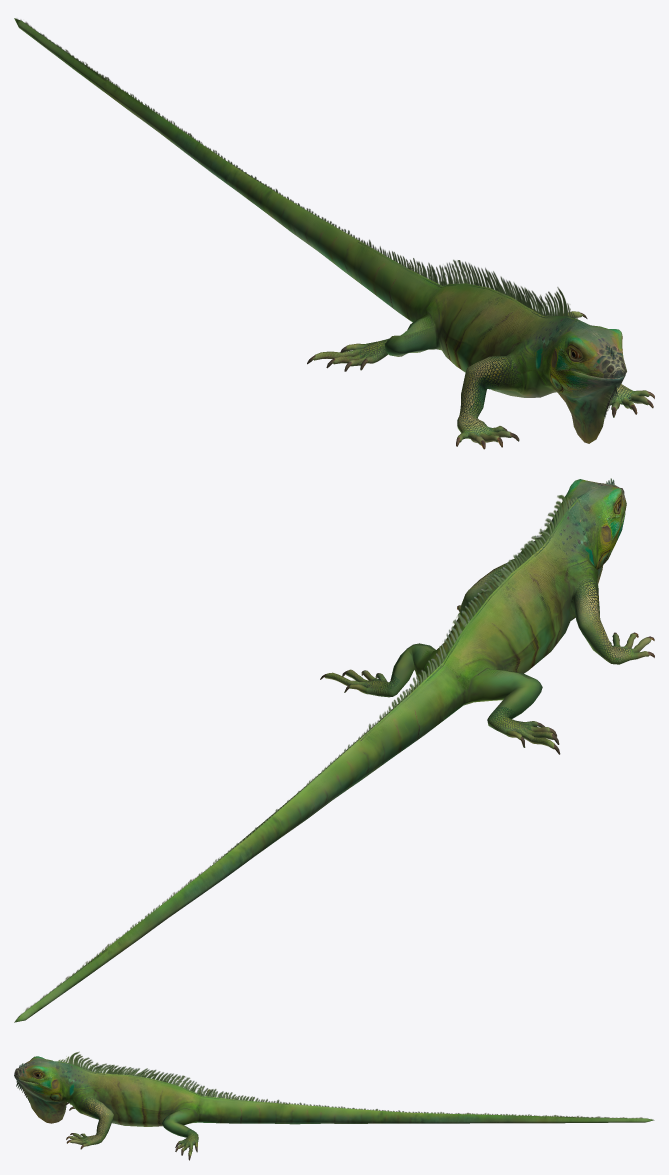
The model's file is iguane.gltf.
The picture shows the model from 3 angles, top to bottom: view 1: azimuth 30°, elevation 25°; view 2: azimuth 150°, elevation 25°; view 3: azimuth 270°, elevation 25°; orthographic projection. The views are drawn at different scales.
Visible parts, largest first — view 1: sm_1_0_0, sm_1_0_1; view 2: sm_1_0_0, sm_1_0_1; view 3: sm_1_0_0, sm_1_0_1.
Part boxes in pixels (x1=…): sm_1_0_0: x1=14, y1=18, x2=654, y2=449; sm_1_0_1: x1=16, y1=18, x2=577, y2=318; sm_1_0_0: x1=14, y1=478, x2=654, y2=1022; sm_1_0_1: x1=16, y1=495, x2=577, y2=1019; sm_1_0_0: x1=14, y1=1056, x2=654, y2=1160; sm_1_0_1: x1=58, y1=1051, x2=652, y2=1119.
Size of the model in its own units: 0.4548 by 0.2364 by 1.83.
2 materials, 2 textured.
